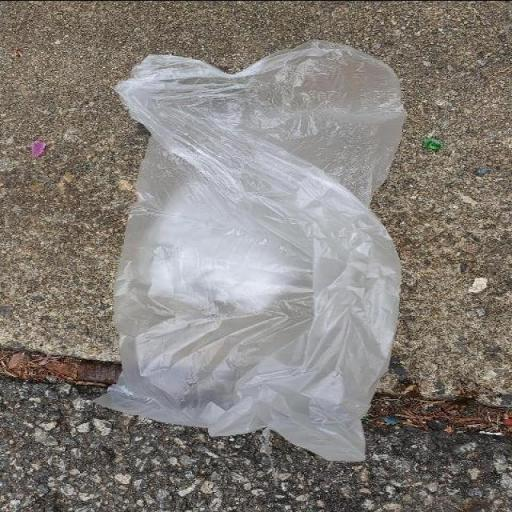plastic-bag: (96, 38, 410, 464)
